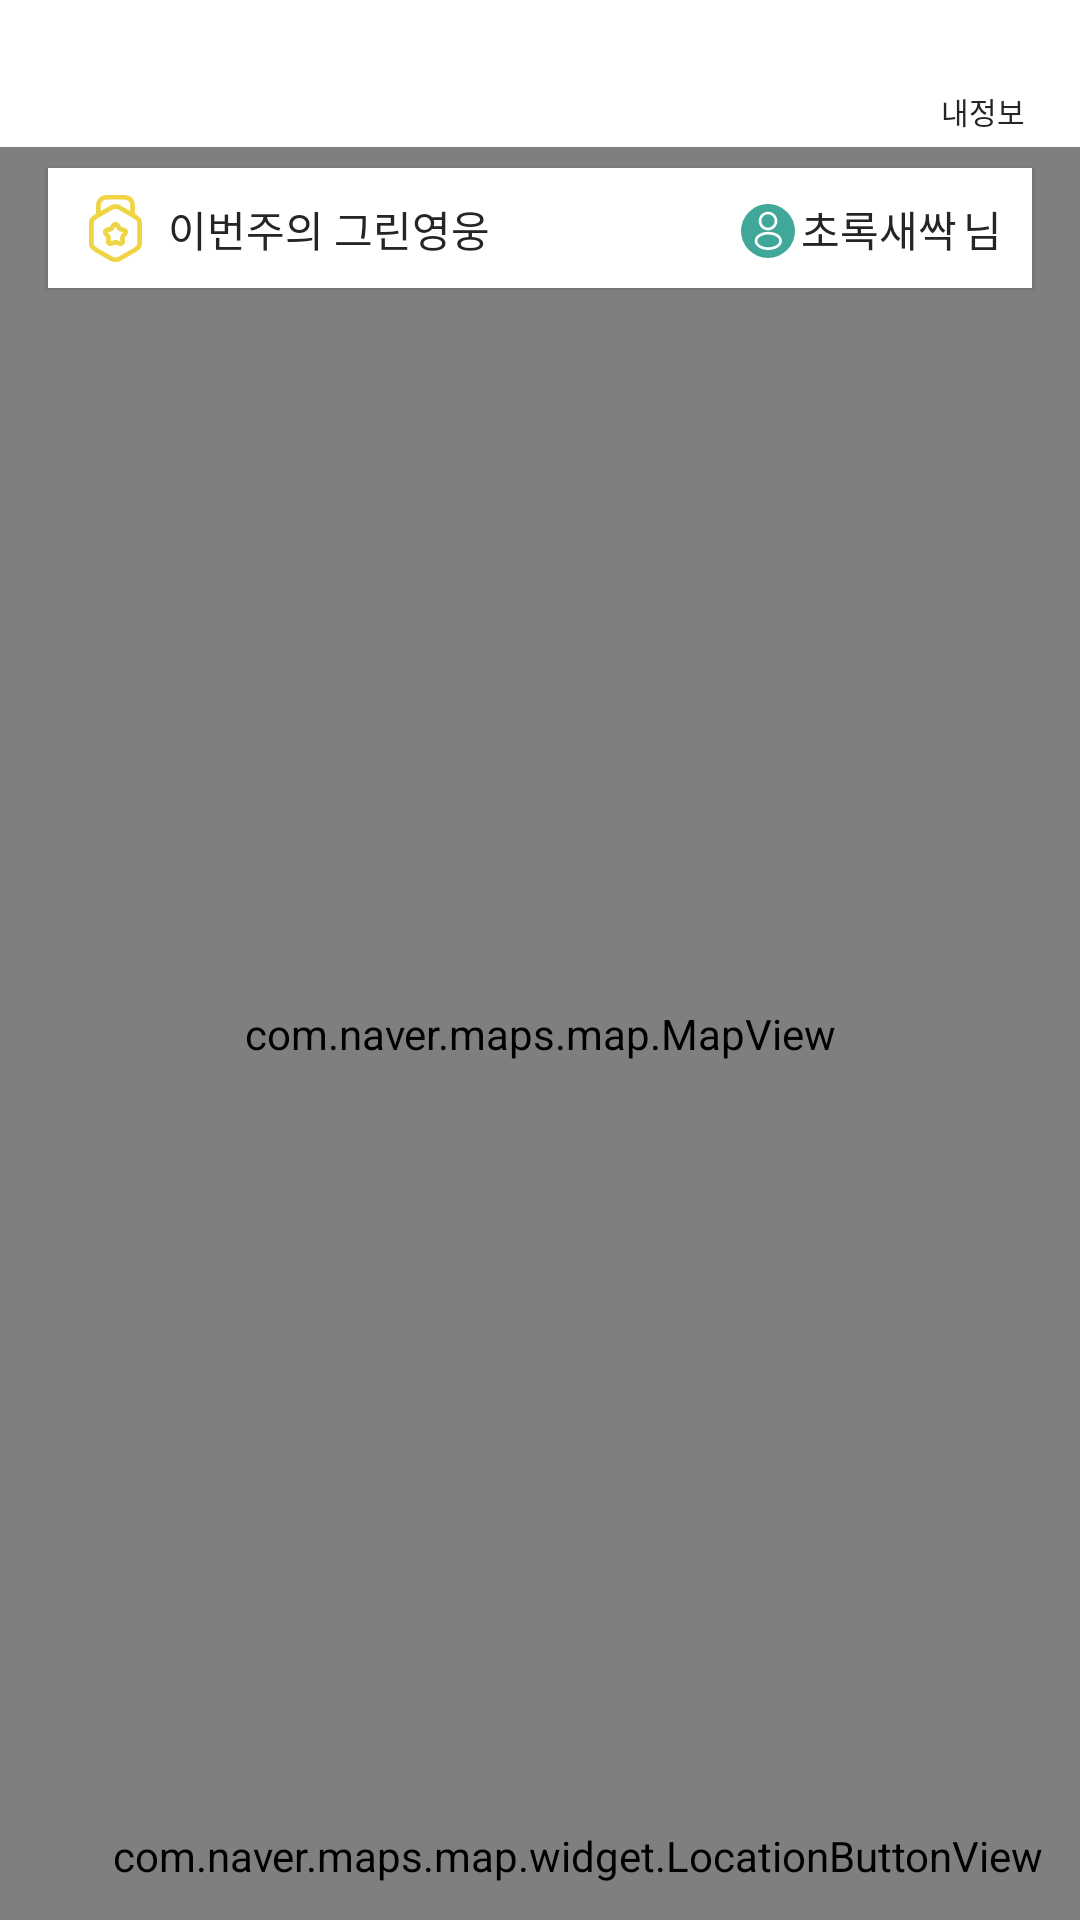

Icon click points for this 1080x1920 phone screenshot, format (x,y):
award: (115,228)
profile: (768,231)
